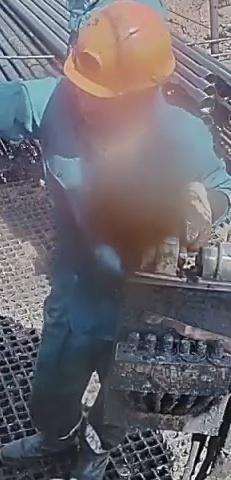gloves: (115, 182, 210, 249)
helmet: (62, 0, 176, 98)
vest: (48, 77, 204, 332)
